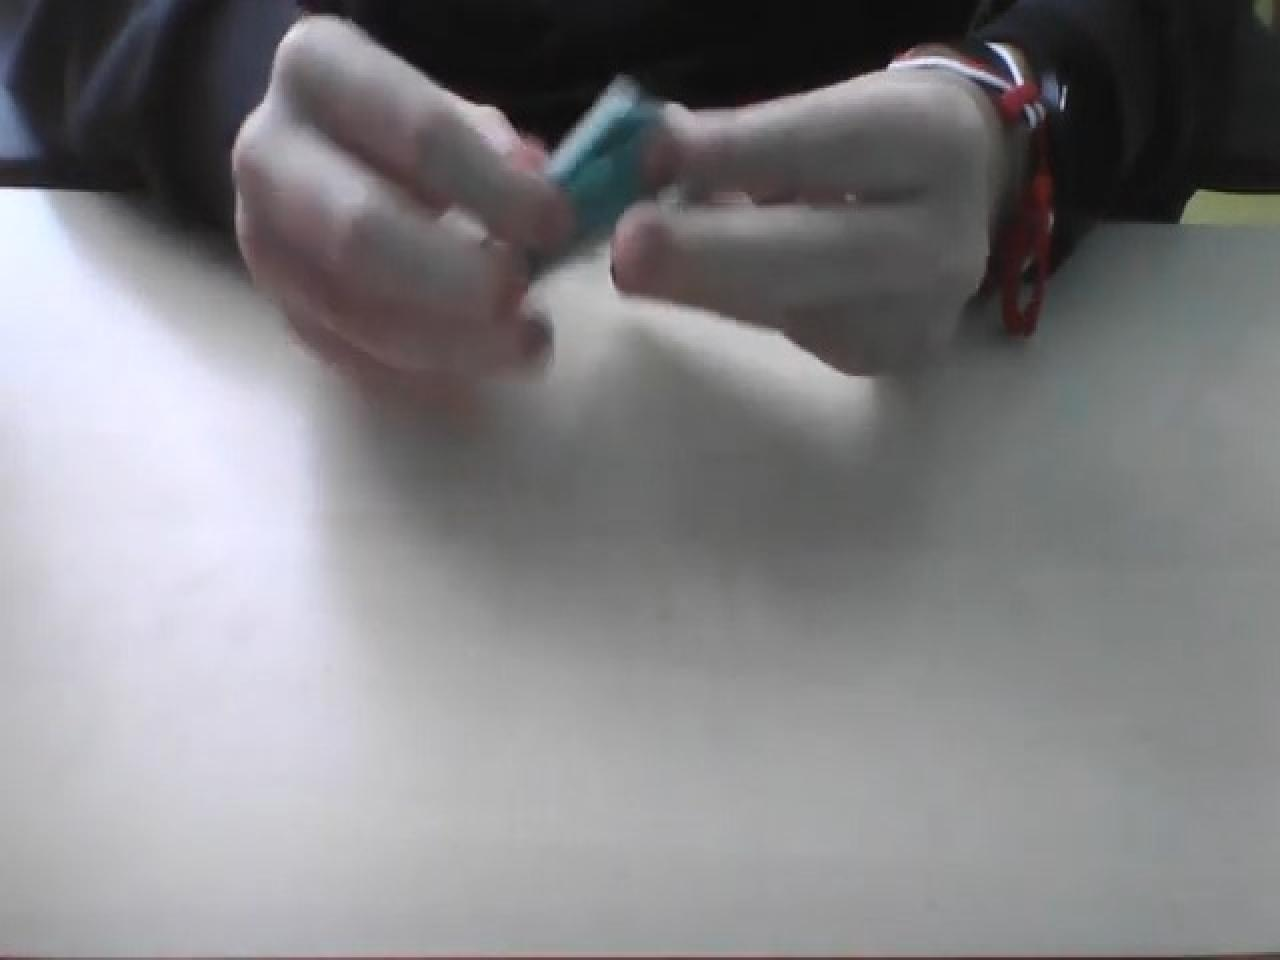100leva: (524, 70, 674, 269)
